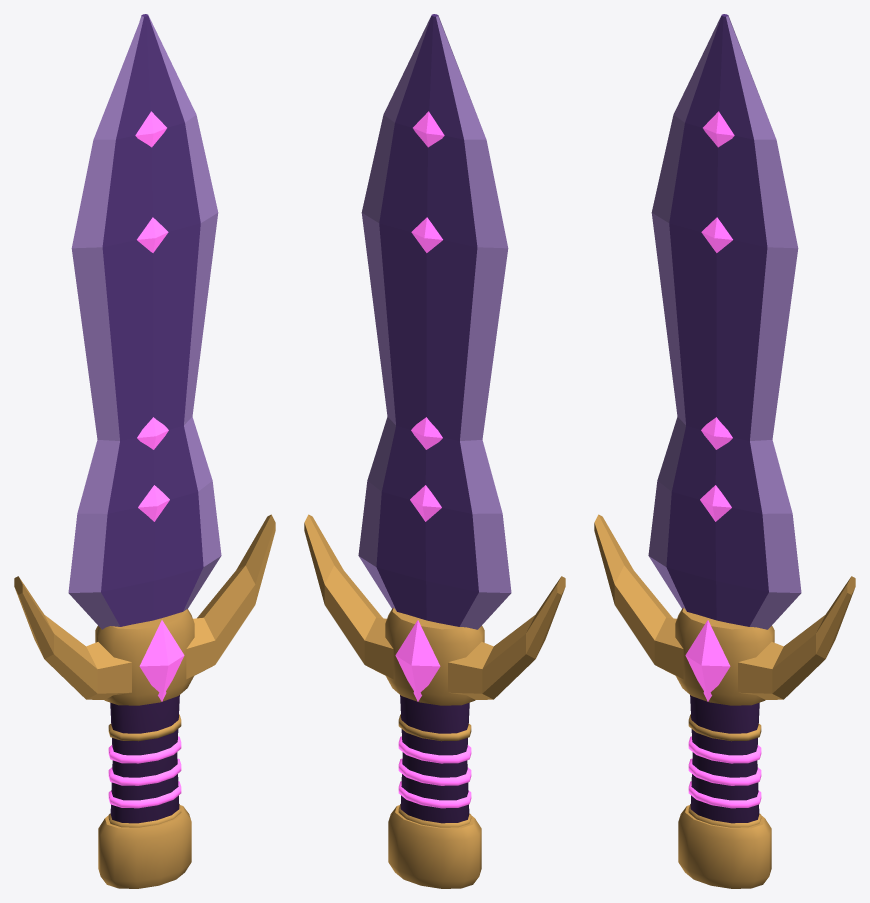
The model's file is sword-epic.glb.
3 renders of one model, left to right at view 1: azimuth 30°, elevation 25°; view 2: azimuth 150°, elevation 25°; view 3: azimuth 330°, elevation 25°, orthographic.
Visible parts, largest first — view 1: Body; view 2: Body; view 3: Body.
Part boxes in pixels (x1,y1,x2,y2): Body: (14, 14, 275, 888); Body: (304, 14, 565, 888); Body: (594, 14, 855, 888).
Bounding box in the file's own units: 0.3937 × 1.28 × 0.1267.
